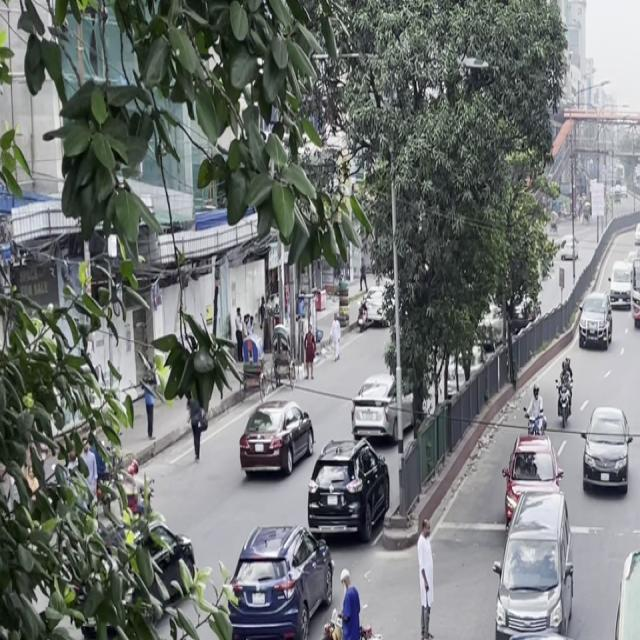bicycle: (309, 574, 397, 640)
bus: (563, 520, 640, 640), (632, 278, 640, 334)
car: (215, 520, 338, 640), (487, 487, 578, 640), (301, 435, 392, 545), (233, 396, 320, 491), (579, 398, 636, 504), (346, 369, 403, 447), (575, 292, 614, 354), (470, 621, 591, 640)
motorbike: (553, 353, 576, 429)
